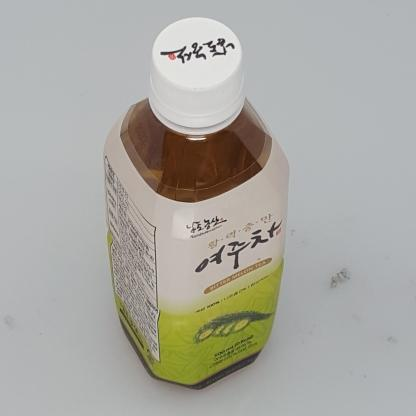-----------500ML: (102, 17, 290, 390)
